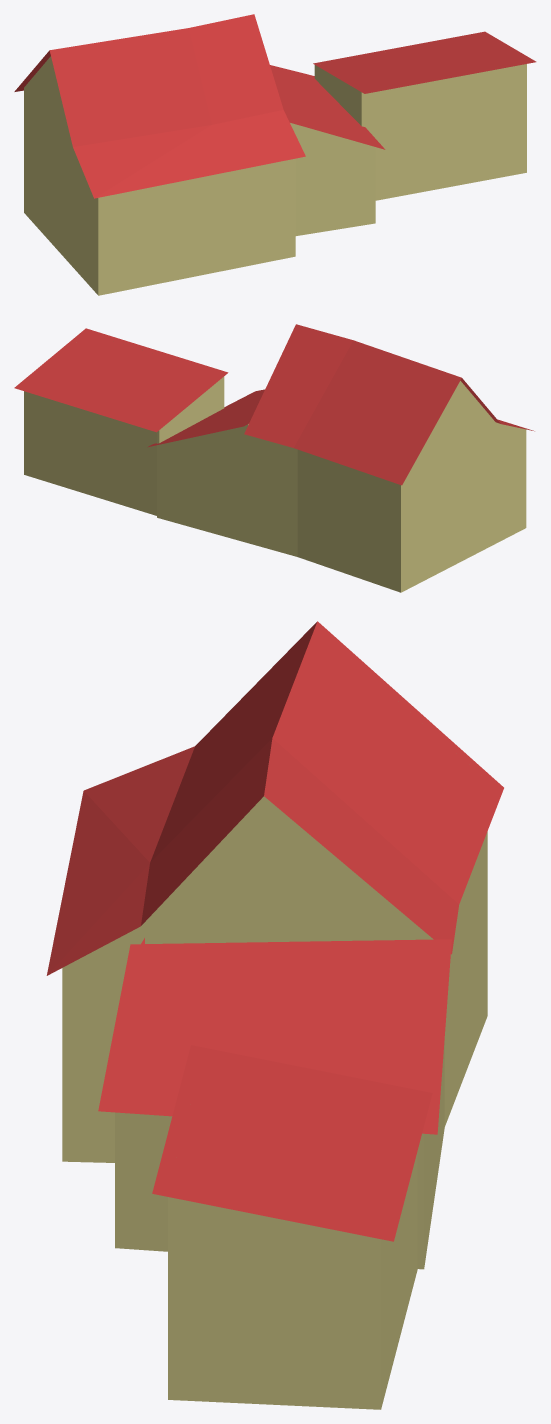
The picture shows the model from 3 angles, top to bottom: view 1: azimuth 30°, elevation 25°; view 2: azimuth 150°, elevation 25°; view 3: azimuth 270°, elevation 25°; orthographic projection. The views are drawn at different scales.
Bounding box in the file's own units: 35.55 × 15.82 × 14.37.
